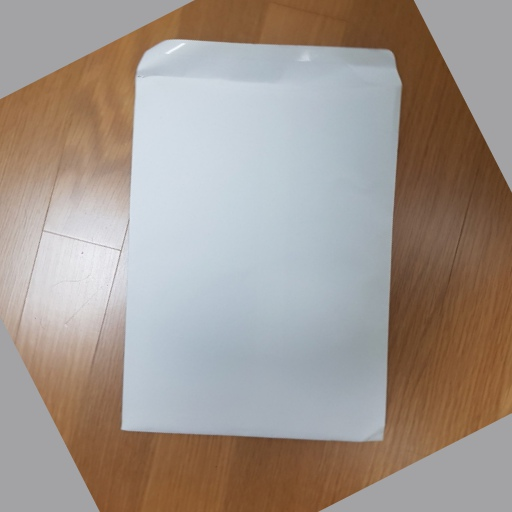Paper_2: (118, 34, 404, 455)
